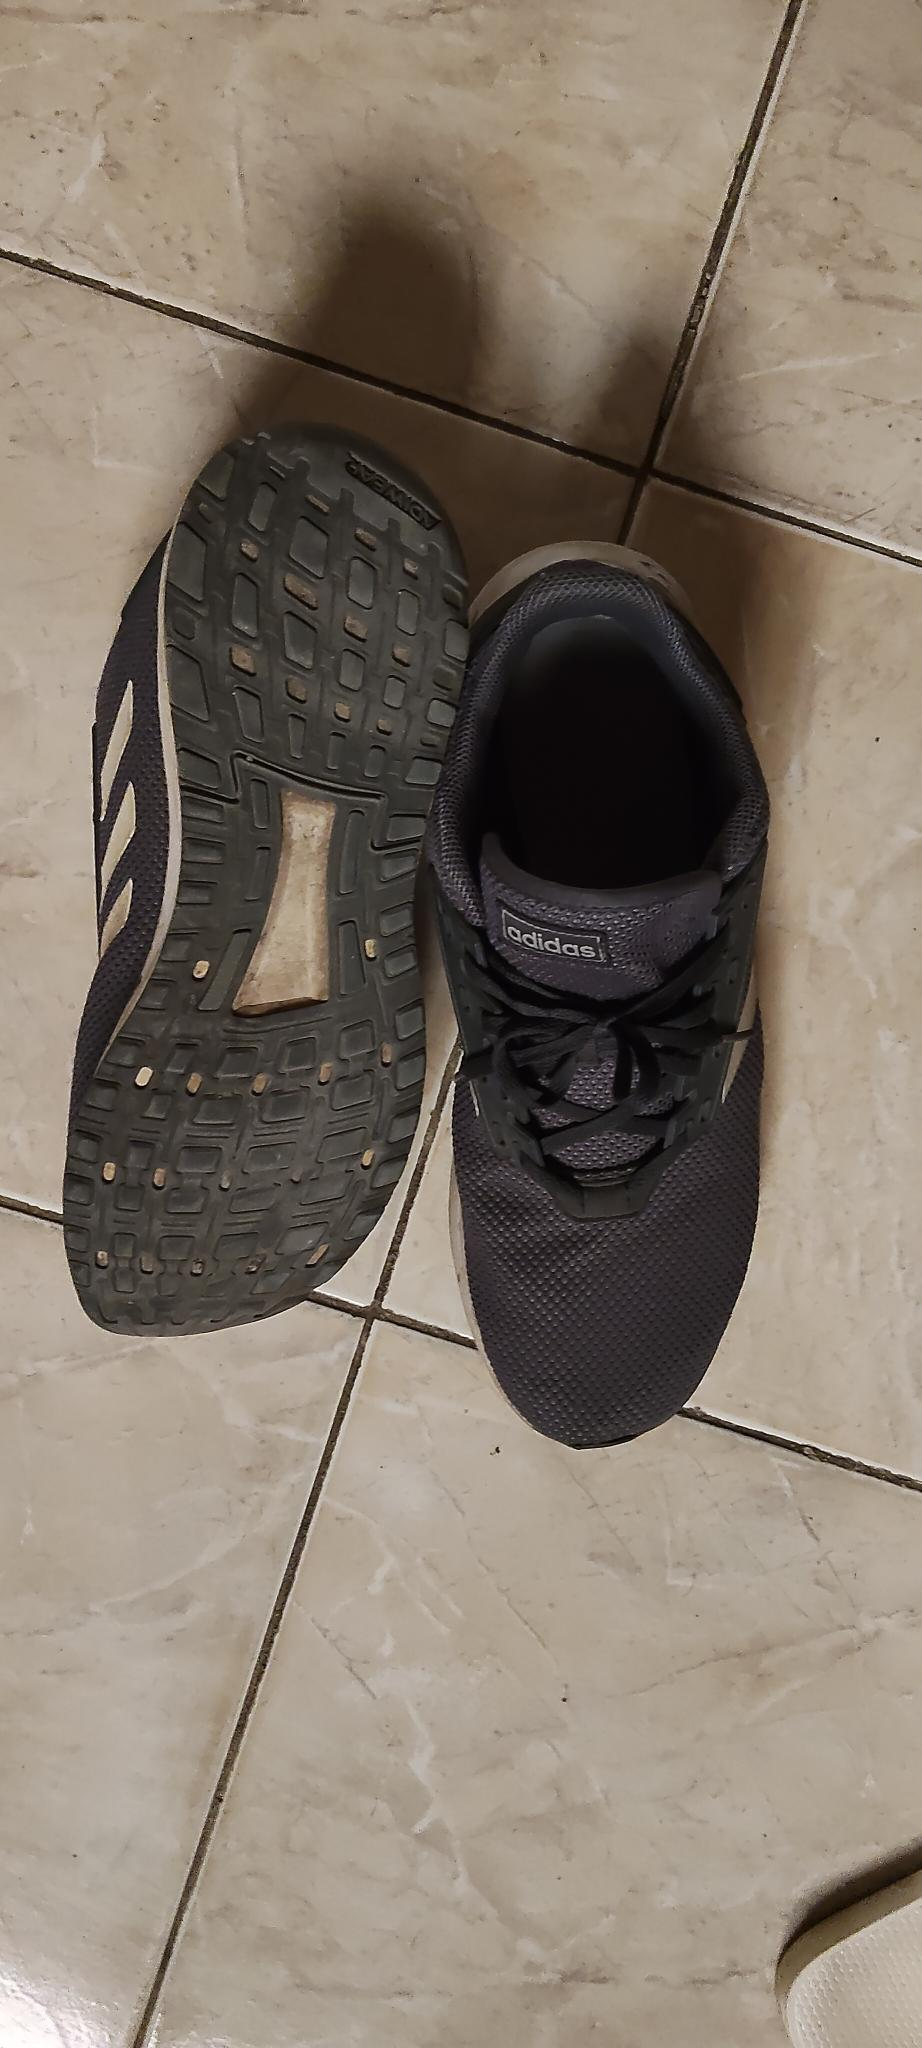Shoes: (65, 416, 472, 1338), (422, 543, 773, 1446)
